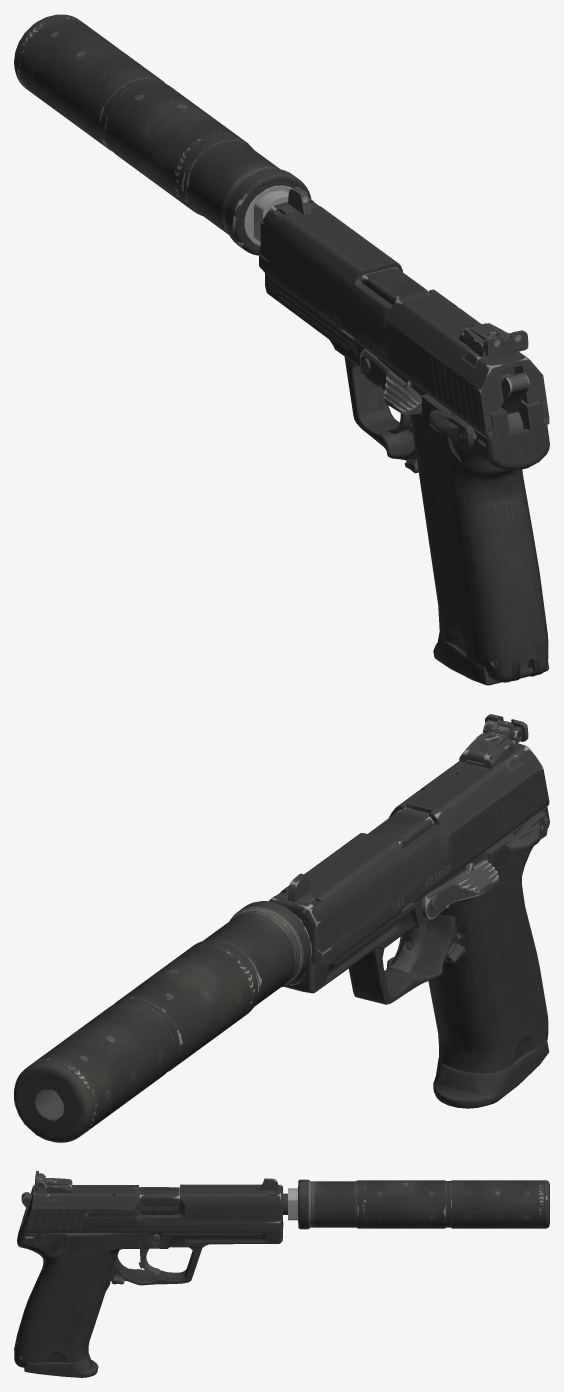
File: usp-s.glb
The picture shows the model from 3 angles, top to bottom: view 1: azimuth 30°, elevation 25°; view 2: azimuth 150°, elevation 25°; view 3: azimuth 270°, elevation 25°; orthographic projection. The views are drawn at different scales.
Parts seen in each view (by area): view 1: rest_steel, suppressor_steel, slide_steel, magazine_steel; view 2: rest_steel, suppressor_steel, slide_steel, magazine_steel; view 3: rest_steel, suppressor_steel, slide_steel, magazine_steel.
Part boxes in pixels (<box>): rest_steel: <box>265,267,549,682</box>; suppressor_steel: <box>14,14,311,255</box>; slide_steel: <box>259,187,549,438</box>; magazine_steel: <box>433,632,549,685</box>; rest_steel: <box>284,806,549,1073</box>; suppressor_steel: <box>14,901,311,1142</box>; slide_steel: <box>269,714,549,984</box>; magazine_steel: <box>433,1039,549,1108</box>; rest_steel: <box>14,1187,287,1367</box>; suppressor_steel: <box>288,1179,549,1229</box>; slide_steel: <box>23,1171,282,1232</box>; magazine_steel: <box>24,1353,98,1377</box>.
Size of the model in its own units: 0.0413 by 0.1548 by 0.3837.
1 material, 1 textured.
